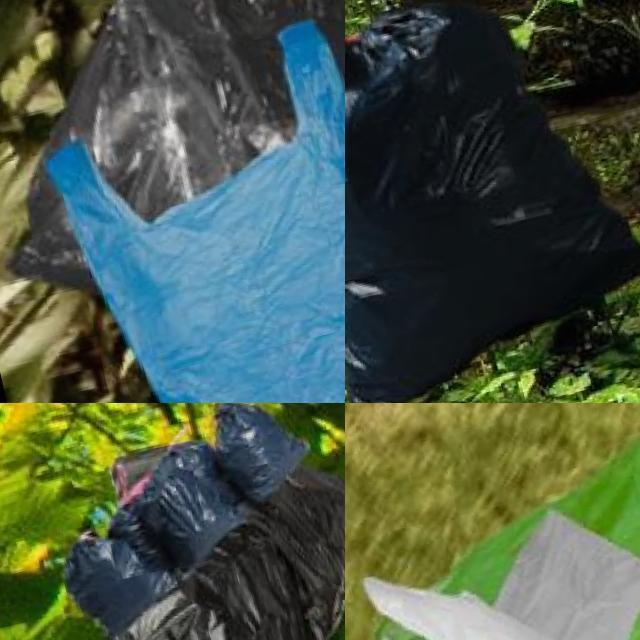waste: (21, 0, 345, 403), (345, 0, 640, 403), (345, 403, 640, 640), (79, 456, 345, 640), (345, 520, 640, 640), (104, 432, 256, 562), (210, 403, 321, 511), (56, 520, 174, 618)
